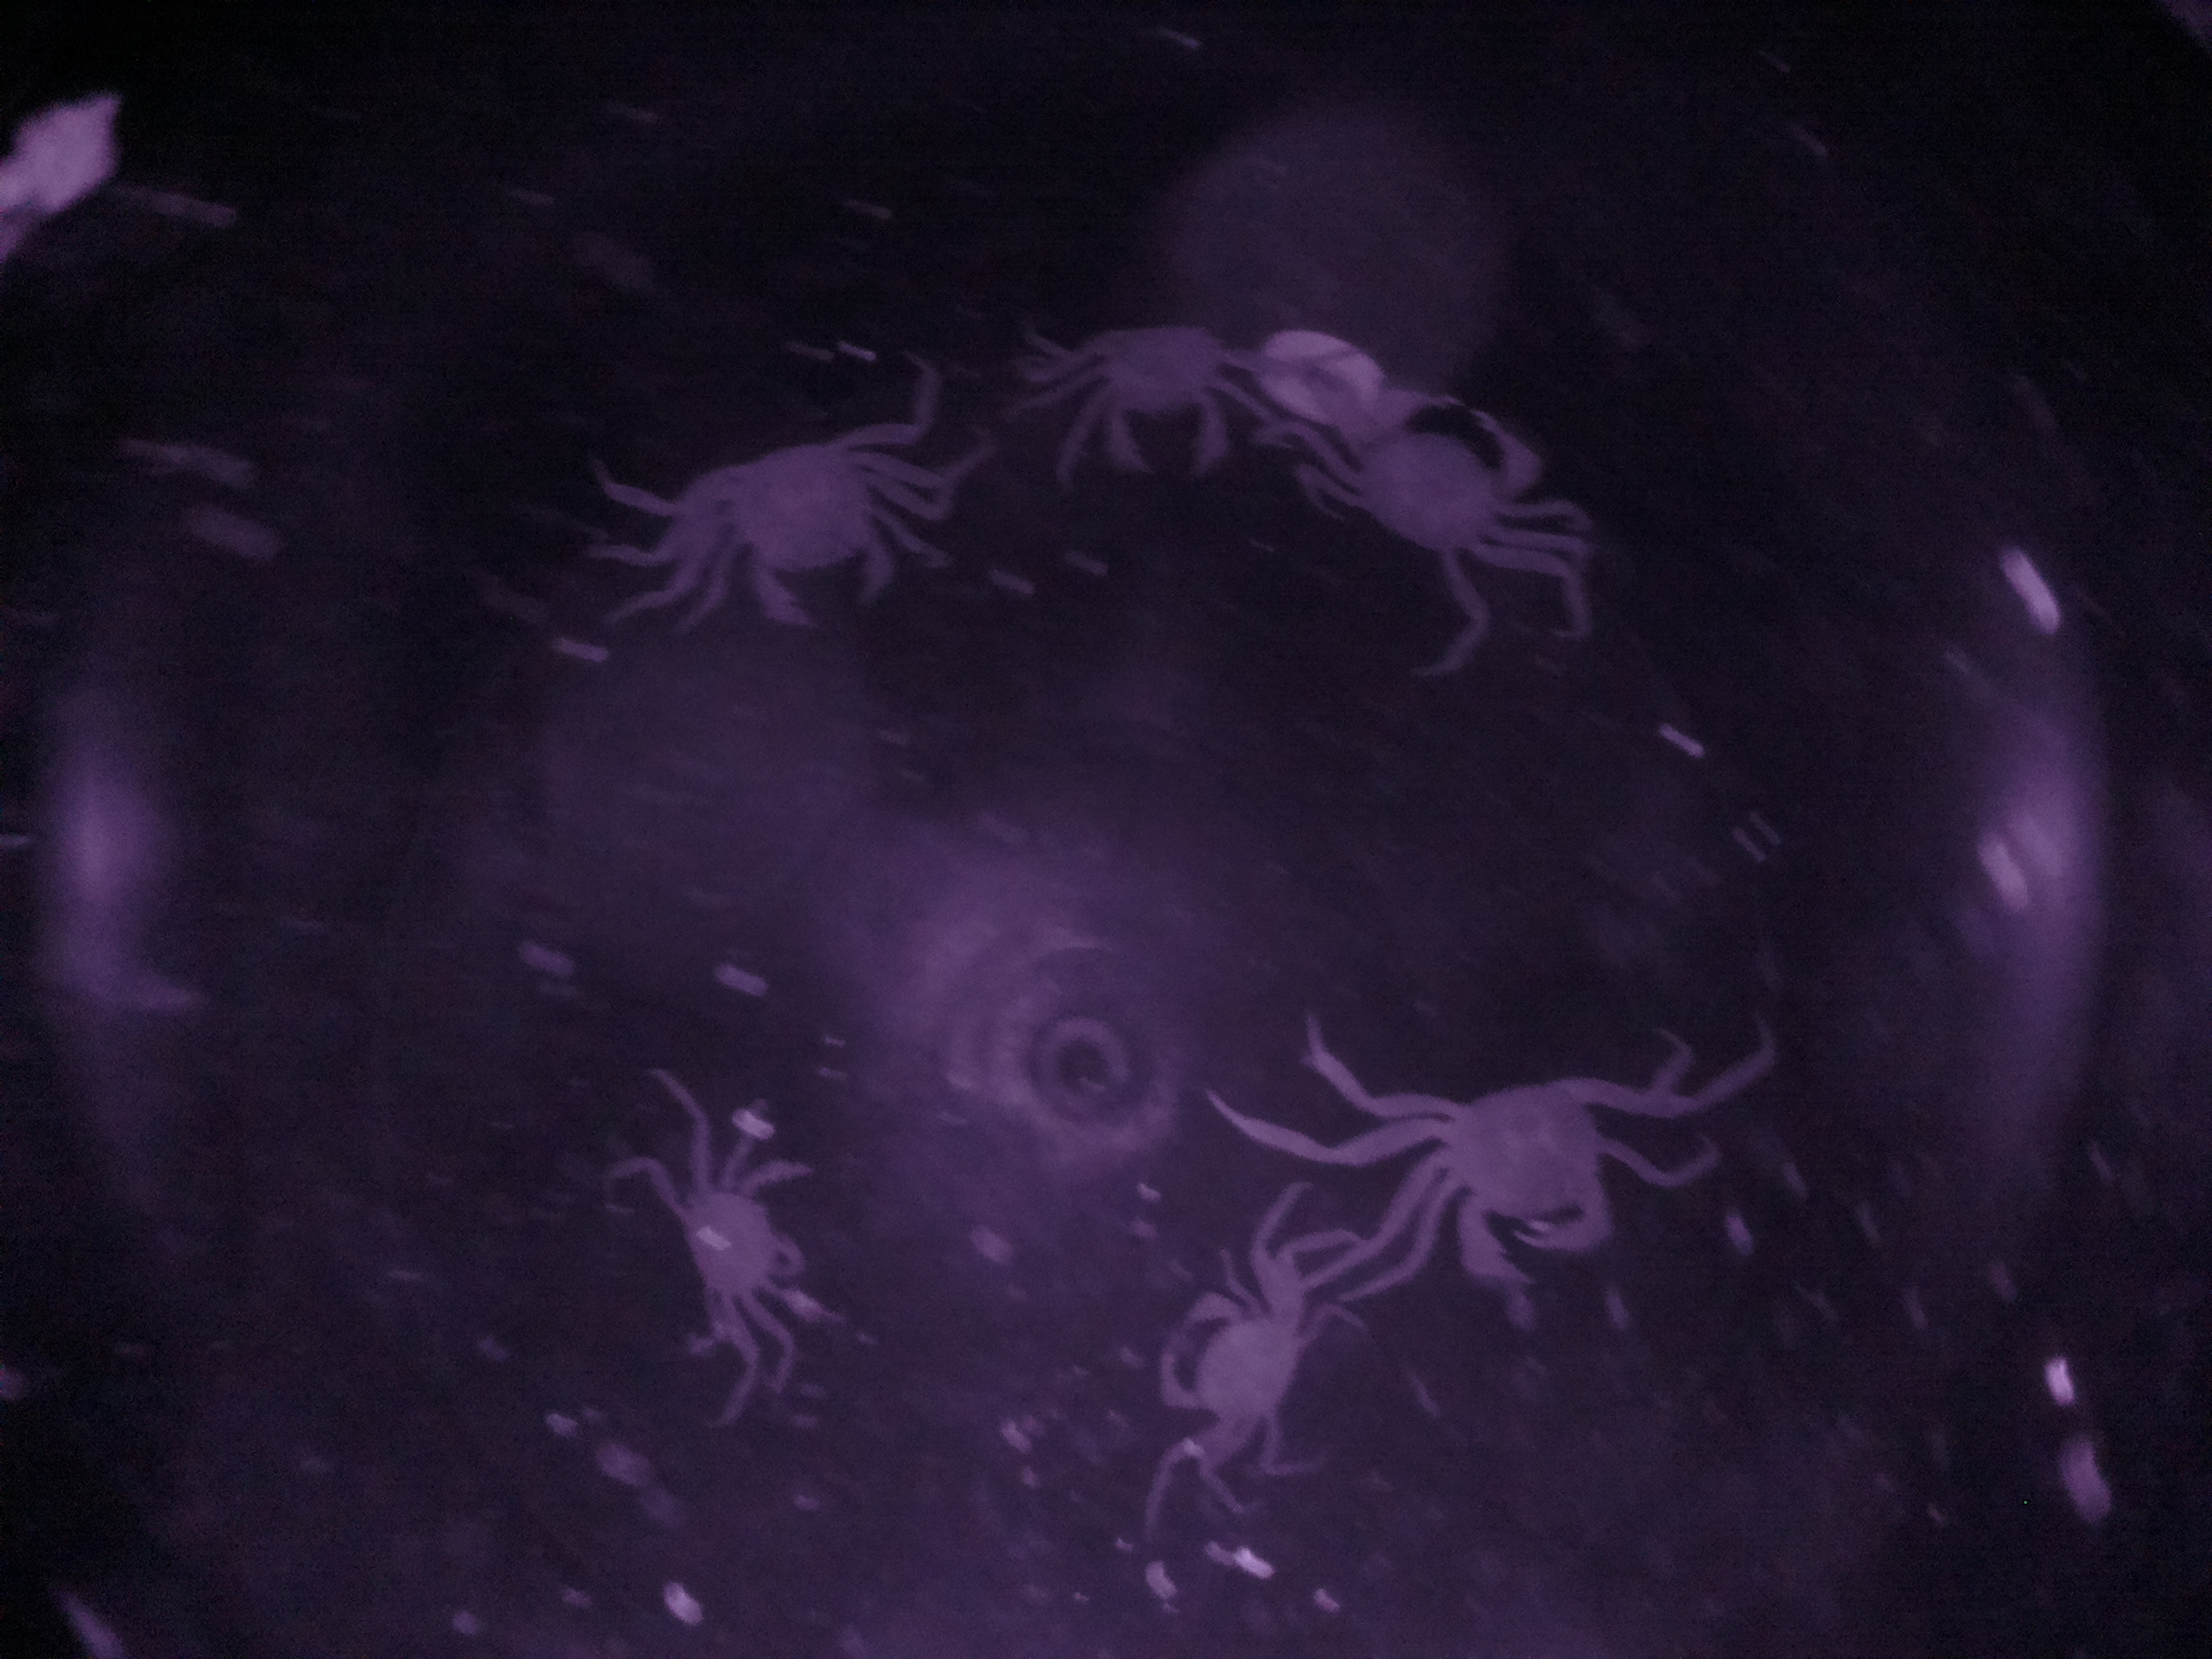Crab: (1341, 1054, 1689, 1323), (629, 406, 932, 647), (1134, 1230, 1339, 1521), (1301, 371, 1583, 579), (650, 1121, 843, 1359)
